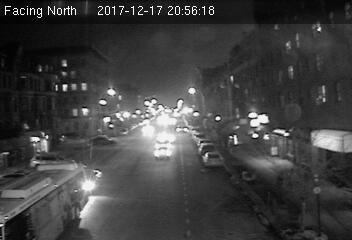car: (151, 145, 172, 160), (201, 151, 222, 165)
